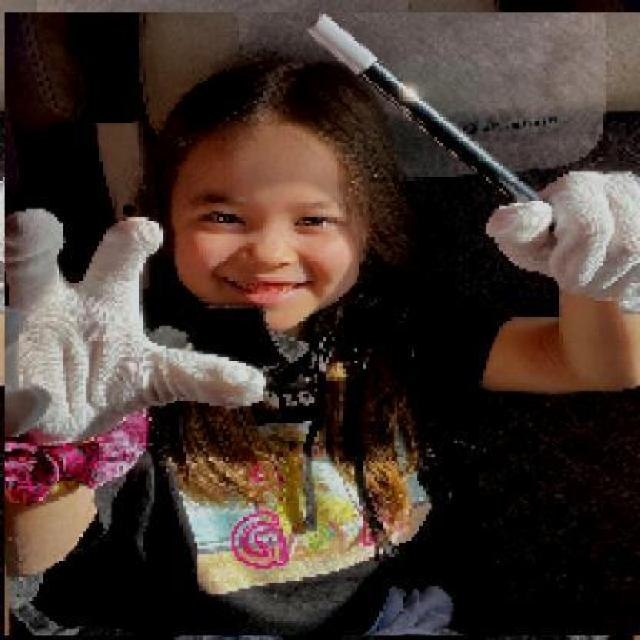child: (3, 12, 640, 637)
